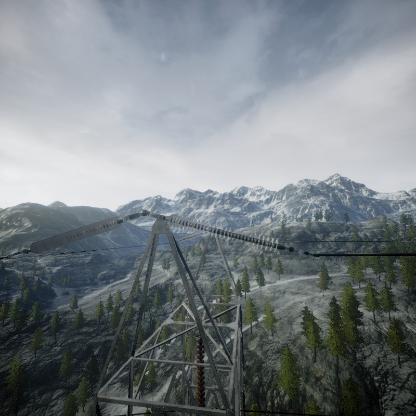insulator: (167, 212, 289, 253), (27, 216, 130, 253), (195, 336, 206, 407)
